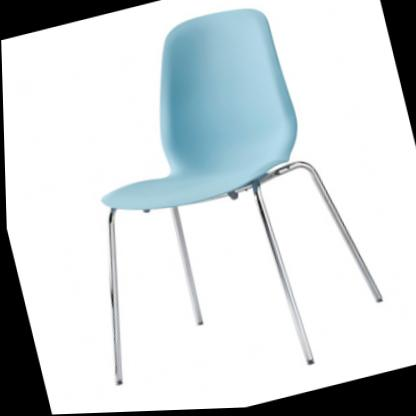Chair: (25, 0, 400, 415)
